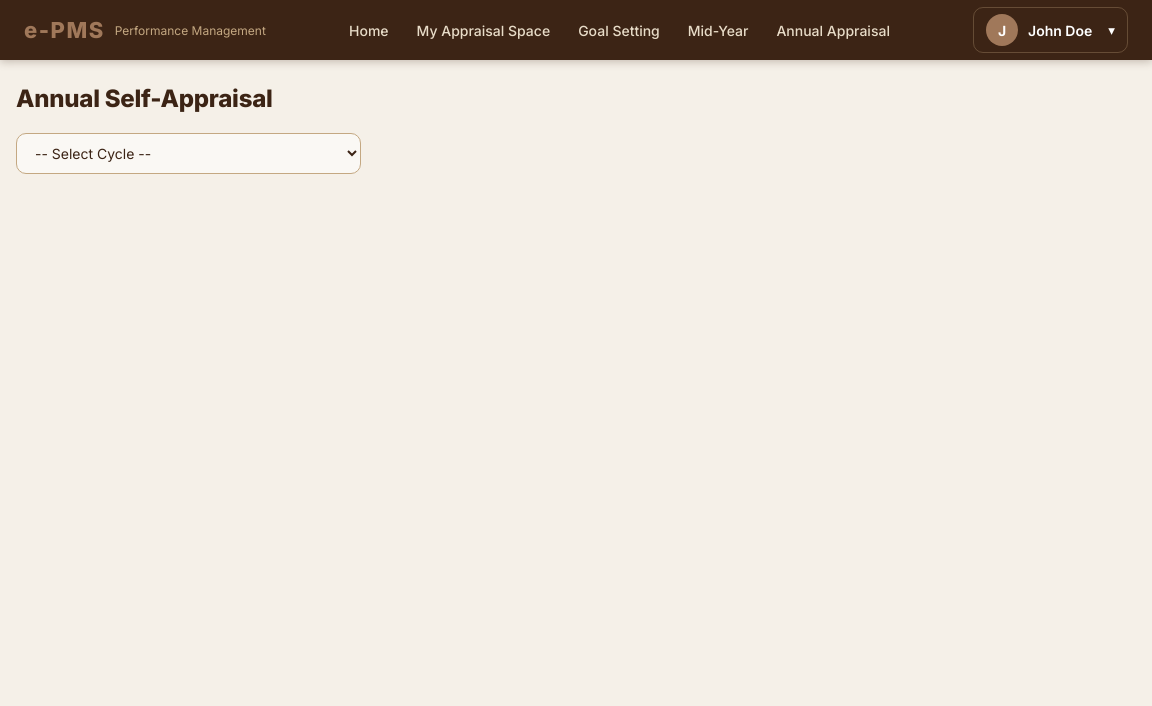
Test: Self Appraisal Page › loads KPAs and attributes after cycle selection
This screenshot has width=1152, height=706.
Step 1. Select "FY 2024-25 (ANNUAL APPRAISAL · ACTIVE)" in the dropdown → (188, 154), box [16,133,361,174]
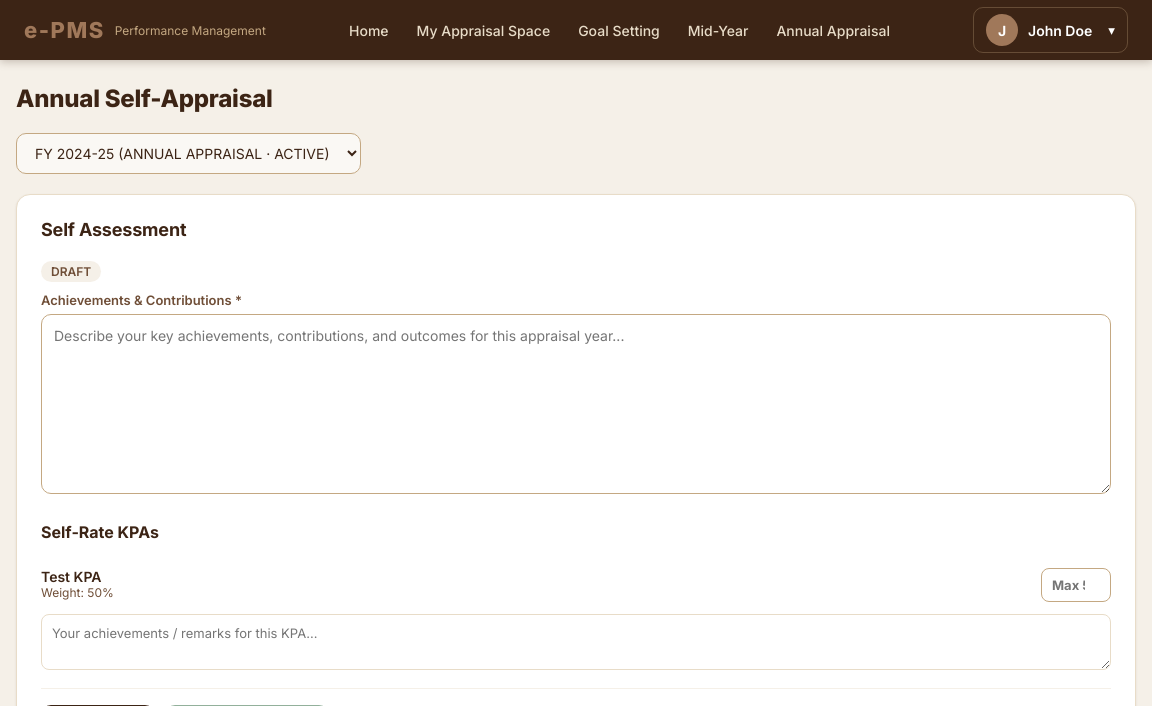
Check: the text "Test KPA" is shown, box [41,568,102,585]
